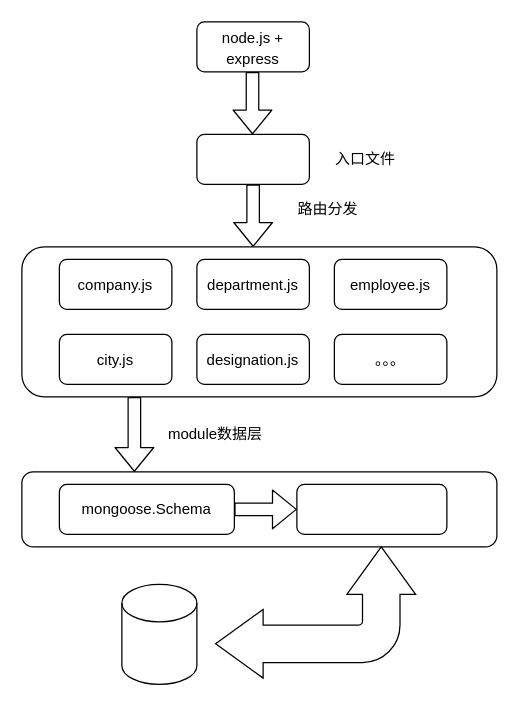
The diagram is 519 pixels wide and 706 high, and some of its shapes have lost their labels. Each missing label, with the centre of its shape:
app.js: pixel 252 158
mongodb: pixel 159 633
mongoose.module: pixel 371 508
操作数据库: pixel 315 612
